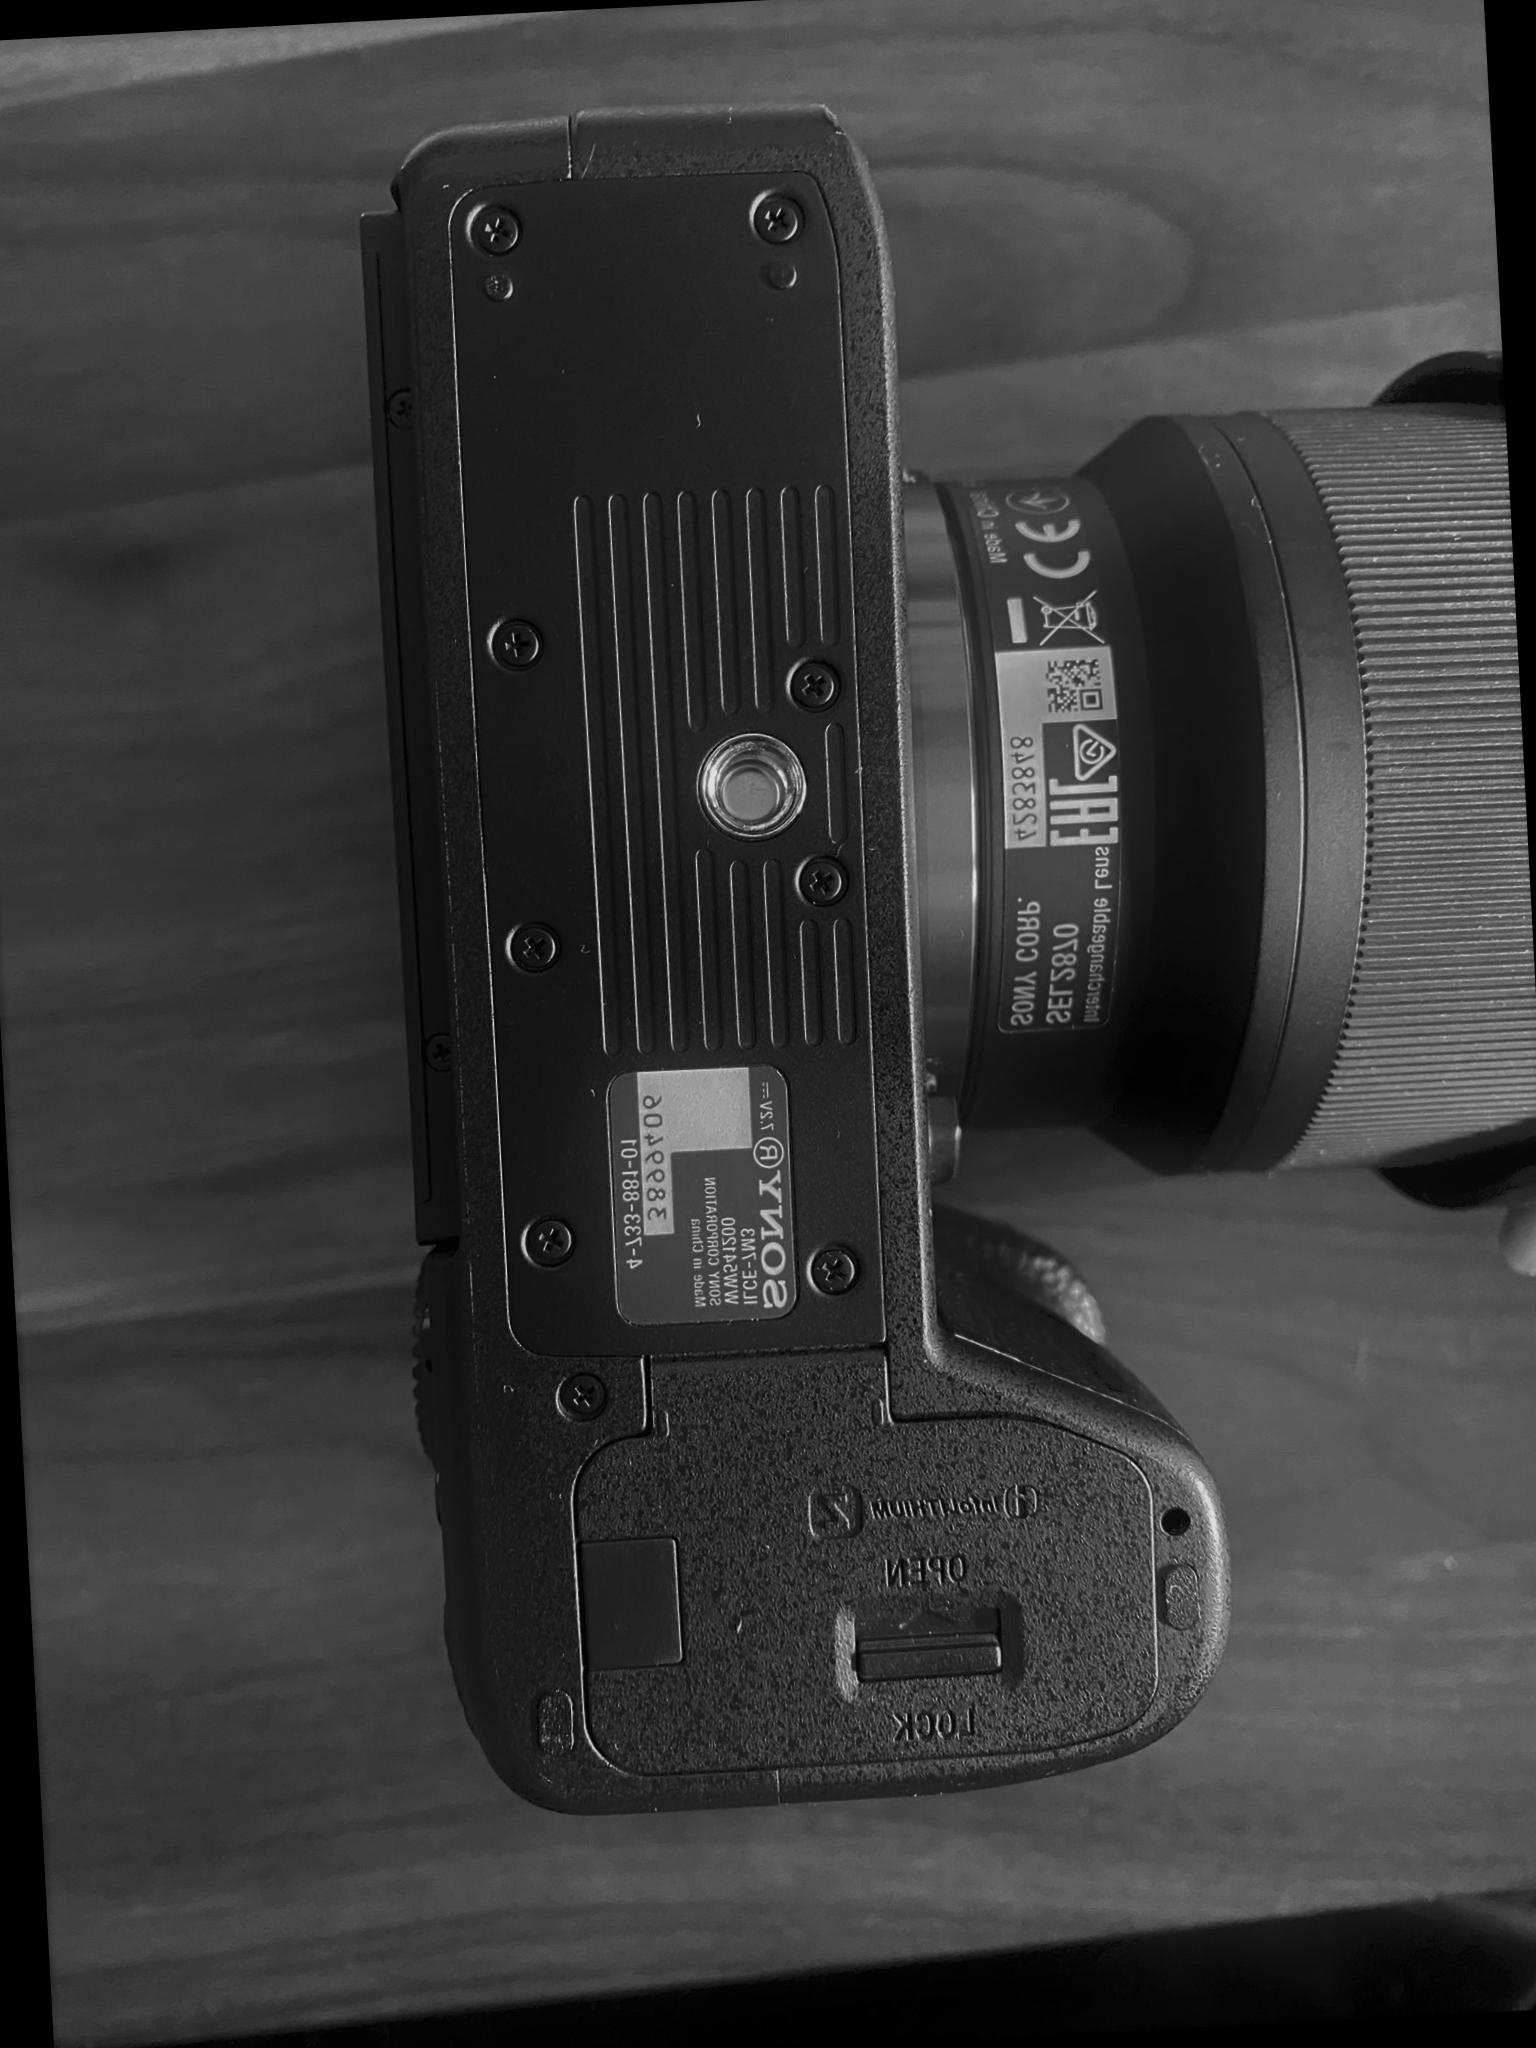PH: (507, 914, 558, 979), (468, 200, 526, 255), (792, 853, 849, 908), (489, 614, 542, 672), (807, 1242, 860, 1300), (523, 1213, 576, 1268), (789, 655, 839, 713), (750, 194, 805, 242), (558, 1367, 605, 1421), (384, 379, 423, 437), (421, 1026, 458, 1082)
